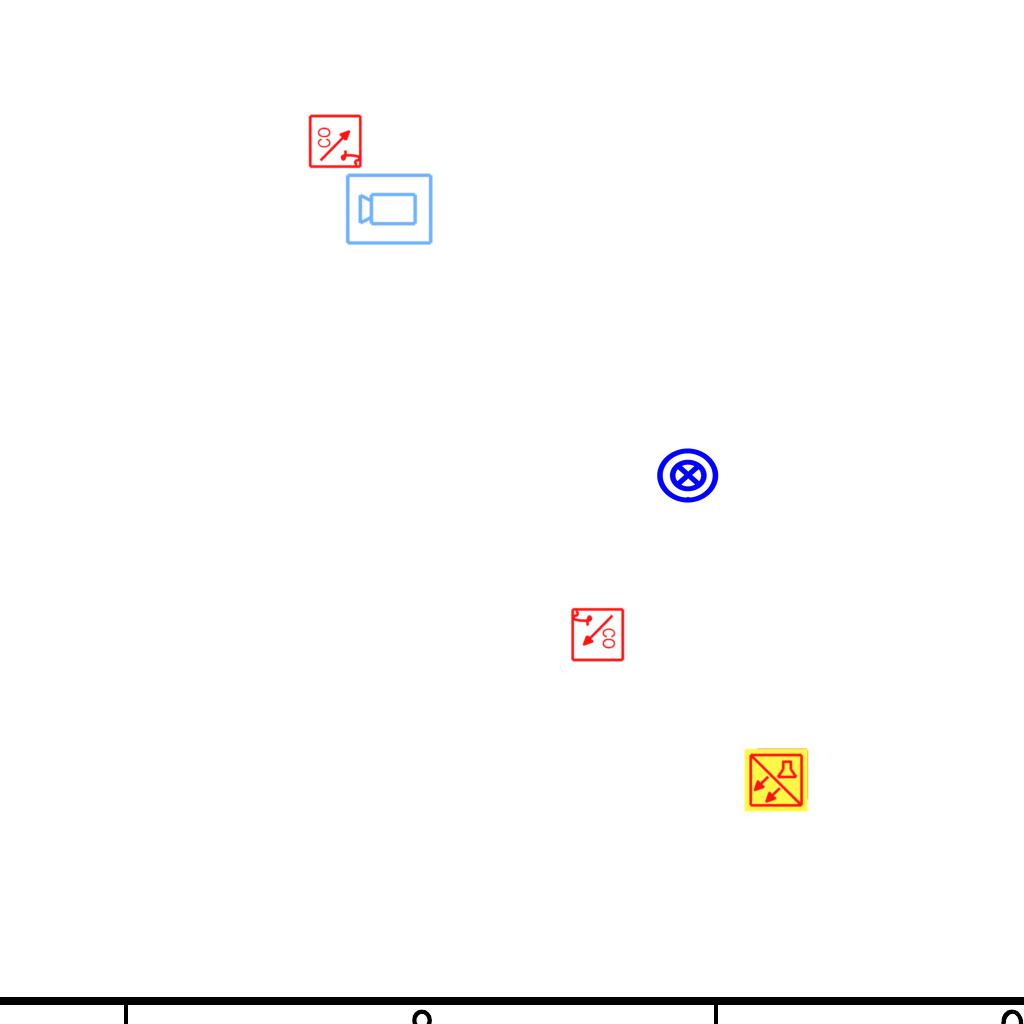KFO_Kamera_mit_Festobjektiv: (344, 170, 435, 247)
OKW_Multisensormelder_(Kombination_optischer_Rauch-Kahlenmonoxid_Waerme-Melder): (743, 747, 809, 813)
ROA_Rauchmelder_optisch_mit_Signalgeber_(Sockelsirene): (569, 607, 625, 663), (308, 113, 364, 169)
Taster_beleuchtet: (655, 442, 721, 508)
